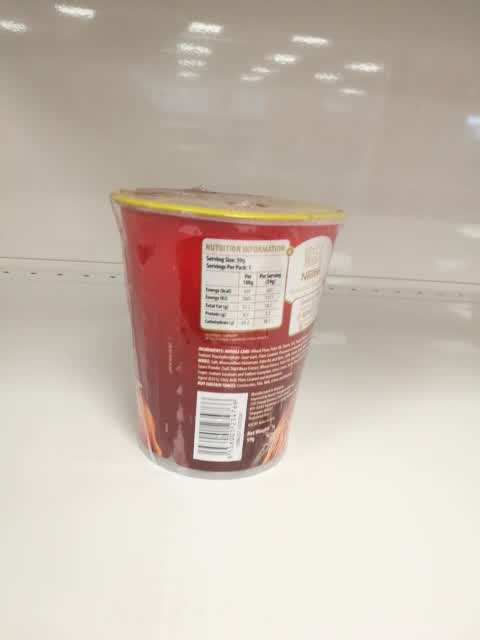maggi: (109, 185, 349, 481)
